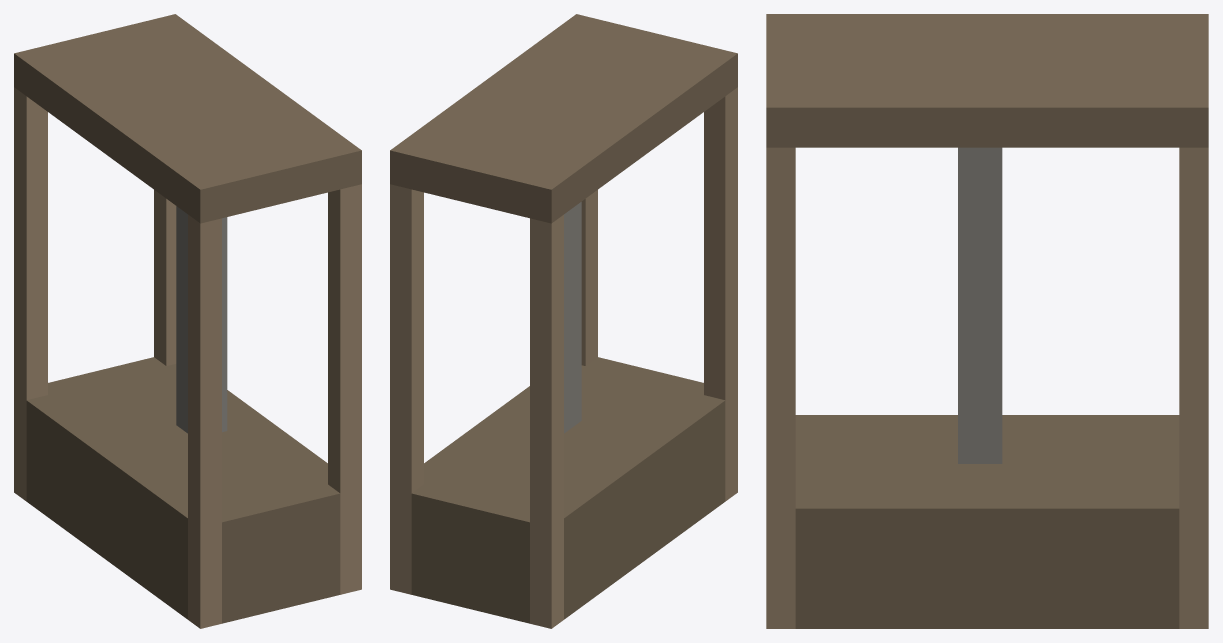
File: prensa_vino_desgastada_01.glb
3 views of the same model, side by side, from view 1: azimuth 30°, elevation 25°; view 2: azimuth 150°, elevation 25°; view 3: azimuth 270°, elevation 25° (orthographic). The views are drawn at different scales.
Visible parts, largest first — view 1: prensa_vino_desgastada; view 2: prensa_vino_desgastada; view 3: prensa_vino_desgastada.
Boxes of the visible parts, x1,y1,x2,y2 form: prensa_vino_desgastada: [14, 14, 361, 628]; prensa_vino_desgastada: [390, 14, 737, 628]; prensa_vino_desgastada: [766, 14, 1208, 628].
Bounding box in the file's own units: 1 × 2.6 × 2.
